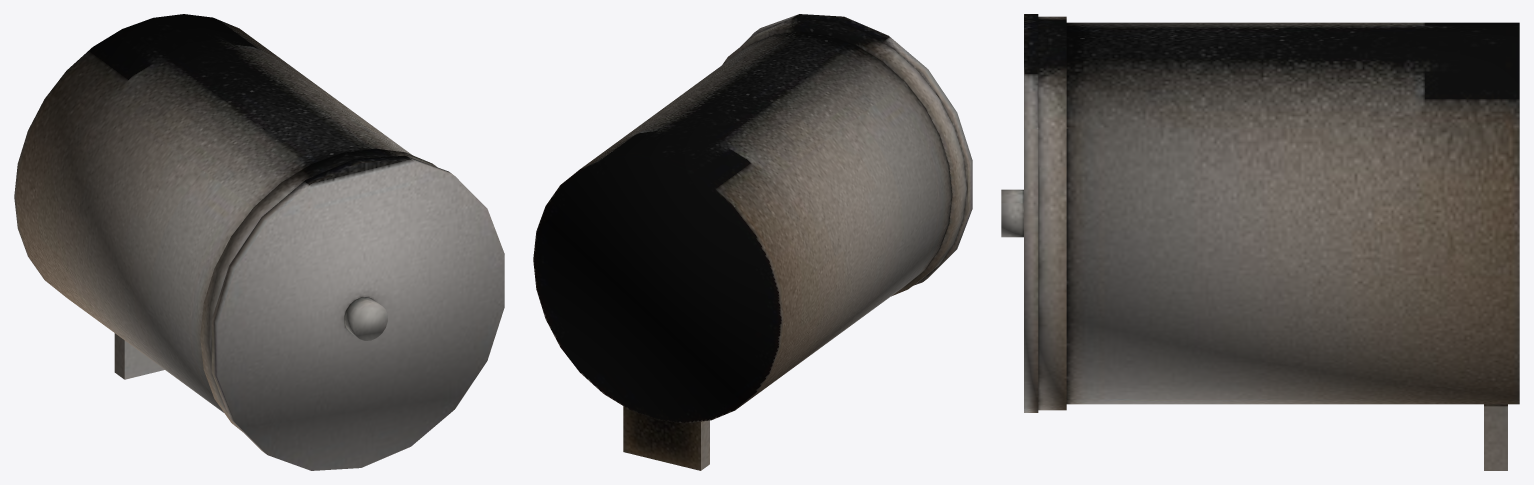
3 renders of one model, left to right at view 1: azimuth 30°, elevation 25°; view 2: azimuth 150°, elevation 25°; view 3: azimuth 270°, elevation 25°, orthographic. The views are drawn at different scales.
Visible parts, largest first — view 1: D3_final.001; view 2: D3_final.001; view 3: D3_final.001.
Boxes of the visible parts, x1=… form: D3_final.001: x1=14, y1=14, x2=504, y2=470; D3_final.001: x1=533, y1=14, x2=972, y2=470; D3_final.001: x1=1001, y1=14, x2=1519, y2=470.
Bounding box in the file's own units: 0.3309 × 0.383 × 0.435.
1 material, 1 textured.
